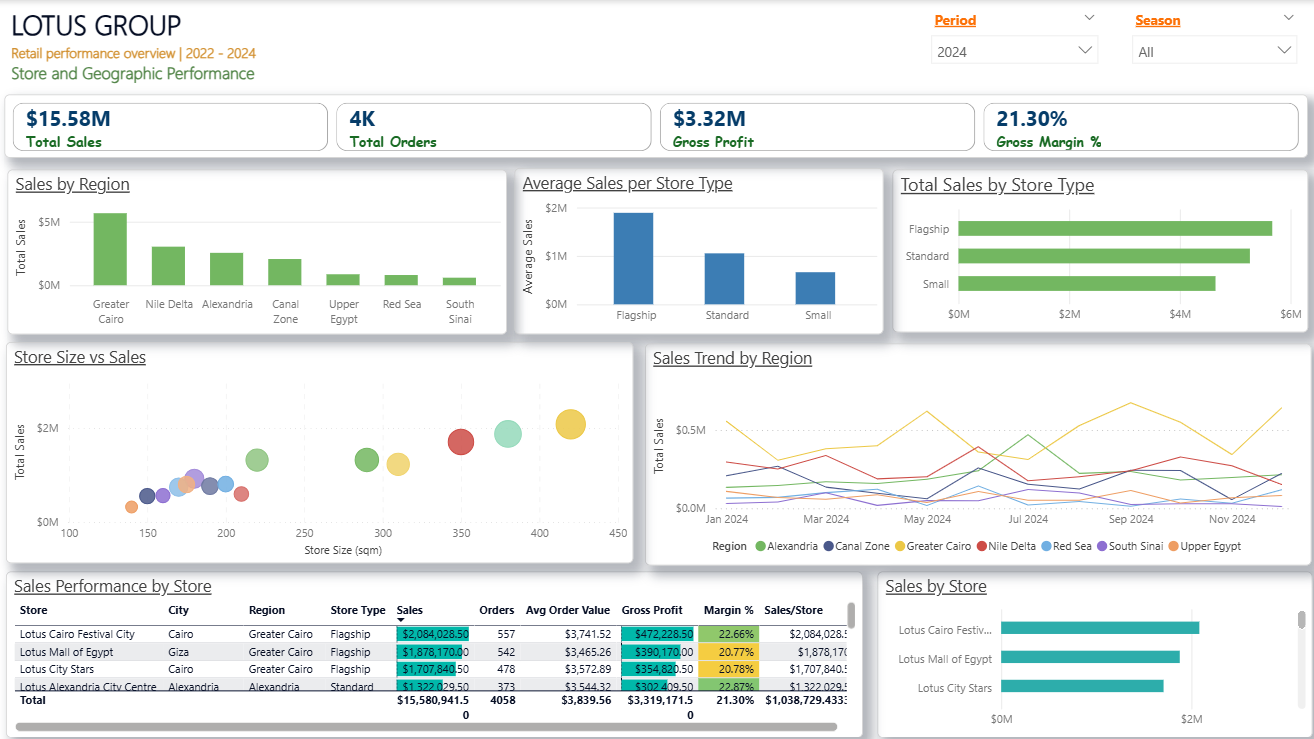

What the dashboard file says about the page in this screenshot:
{"tool":"powerbi","page":{"name":"Store and Geographic Performance","canvas":[1280,720],"ordinal":2},"visuals":[{"type":"textbox","box":[5.3,0,309.3,95.6],"z":0},{"type":"slicer","fields":{"Values":["dim_date.full_date.Variation.Date Hierarchy.Year","dim_date.full_date.Variation.Date Hierarchy.Quarter"]},"box":[893.4,4.5,181.7,63.6],"z":1000},{"type":"cardVisual","fields":{"Data":["_Measures.Total Sales","_Measures.Total Orders","_Measures.Gross Profit","_Measures.Gross Margin %"]},"box":[4.6,91.1,1264.6,61.1],"z":2000},{"type":"clusteredColumnChart","title":"Sales by Region","fields":{"Category":["dim_stores.region"],"Y":["_Measures.Total Sales"]},"box":[7,163.8,484.9,160.3],"z":3000},{"type":"clusteredBarChart","title":"Total Sales by Store Type","fields":{"Category":["dim_stores.store_type"],"Y":["_Measures.Total Sales"]},"box":[865.4,164.4,403.2,158.2],"z":4000},{"type":"clusteredBarChart","title":"Sales by Store","fields":{"Category":["dim_stores.store_name"],"Y":["_Measures.Total Sales"]},"box":[851.4,555.2,421.8,161.3],"z":5000},{"type":"clusteredColumnChart","title":"Average Sales per Store Type","fields":{"Category":["dim_stores.store_type"],"Y":["_Measures.Sales per Store"]},"box":[499.4,162.8,358.3,161.3],"z":6000},{"type":"tableEx","title":"Sales Performance by Store","fields":{"Values":["dim_stores.store_name","dim_stores.city","dim_stores.region","dim_stores.store_type","_Measures.Total Sales","_Measures.Total Orders","_Measures.Average Order Value","_Measures.Gross Profit","_Measures.Gross Margin %","_Measures.Sales per Store"]},"box":[5.8,554.5,831.2,161.4],"z":7000},{"type":"lineChart","title":"Sales Trend by Region","fields":{"Y":["_Measures.Total Sales"],"Series":["dim_stores.region"],"Category":["dim_date.full_date.Variation.Date Hierarchy.Year","dim_date.full_date.Variation.Date Hierarchy.Quarter","dim_date.full_date.Variation.Date Hierarchy.Month"]},"box":[626.6,333.4,646.7,215.6],"z":8000},{"type":"scatterChart","title":"Store Size vs Sales","fields":{"X":["dim_stores.size_sqm"],"Y":["_Measures.Total Sales"],"Size":["_Measures.Gross Profit"],"Series":["dim_stores.store_name"]},"box":[5.8,332,608.7,214.4],"z":9000},{"type":"slicer","fields":{"Values":["dim_date.Period Type"]},"box":[1088.7,4.7,179.9,63.6],"z":9001}]}

Visuals, with their boxes in screenshot pixels (x1, y1, x2, y2), scaled from the page's 1280x720 canvas onto the 1314x739 screenshot:
textbox: bbox=(5, 0, 323, 98)
slicer - dim_date.full_date.Variation.Date Hierarchy.Year x dim_date.full_date.Variation.Date Hierarchy.Quarter: bbox=(917, 5, 1104, 70)
cardVisual - _Measures.Total Sales x _Measures.Total Orders: bbox=(5, 94, 1303, 156)
"Sales by Region" clusteredColumnChart: bbox=(7, 168, 505, 333)
"Total Sales by Store Type" clusteredBarChart: bbox=(888, 169, 1302, 331)
"Sales by Store" clusteredBarChart: bbox=(874, 570, 1307, 735)
"Average Sales per Store Type" clusteredColumnChart: bbox=(513, 167, 880, 333)
"Sales Performance by Store" tableEx: bbox=(6, 569, 859, 735)
"Sales Trend by Region" lineChart: bbox=(643, 342, 1307, 563)
"Store Size vs Sales" scatterChart: bbox=(6, 341, 631, 561)
slicer - dim_date.Period Type: bbox=(1118, 5, 1302, 70)
